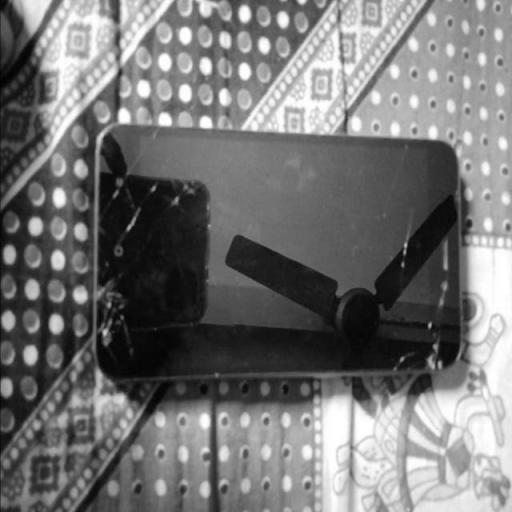phone: (97, 125, 465, 386)
